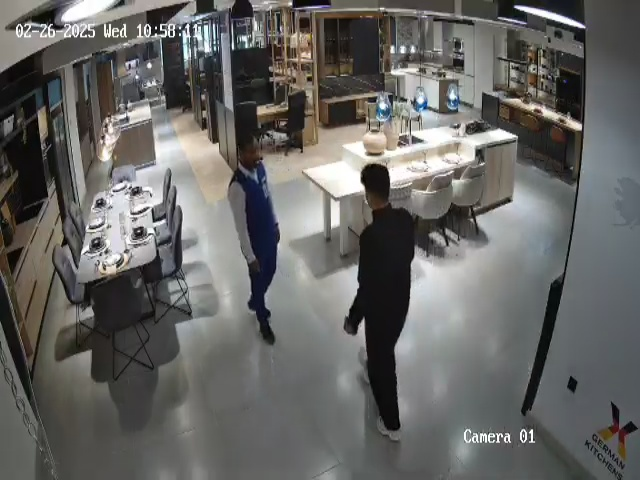employee: (227, 133, 281, 345)
male: (343, 162, 416, 442)
